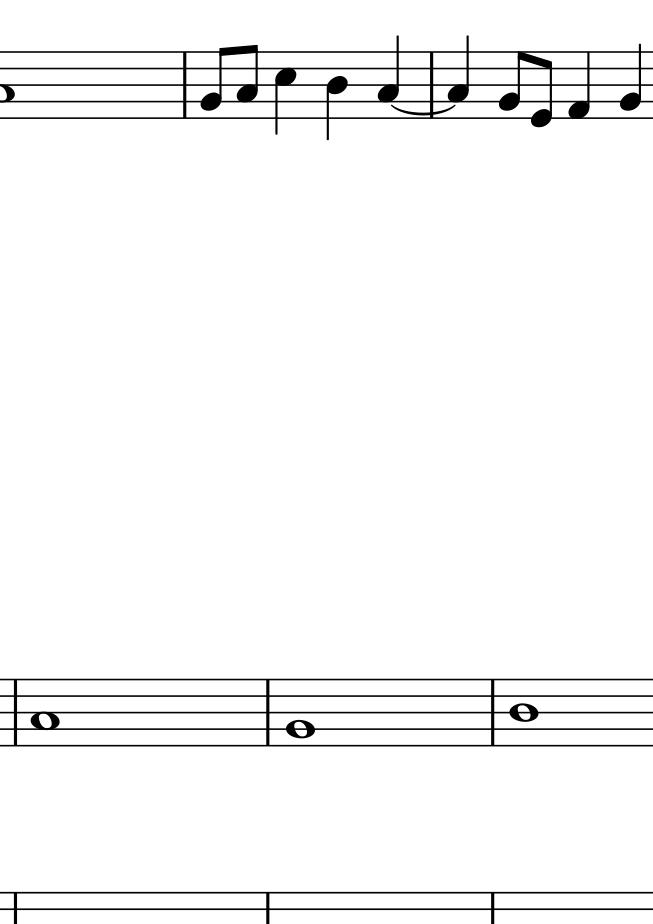1_2: (283, 677, 317, 748)
1_3: (30, 676, 59, 749)
1_4: (507, 677, 541, 750)
4_2: (616, 42, 644, 120)
4_3: (446, 36, 471, 119), (376, 36, 400, 118)
4_4: (324, 51, 349, 142)
4_5: (272, 50, 297, 136)
8_0: (529, 50, 555, 130)
8_1: (566, 49, 593, 122)
8_2: (198, 45, 229, 120), (497, 50, 526, 119)
8_3: (235, 43, 259, 121)
Single_barline: (423, 52, 440, 116), (7, 679, 23, 746), (260, 679, 276, 745), (486, 681, 500, 744), (178, 52, 191, 117)
Slur: (391, 104, 457, 114)
